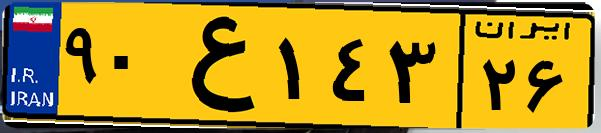0: (110, 28, 158, 98)
1: (270, 28, 330, 110)
2: (475, 38, 525, 113)
3: (385, 28, 445, 110)
4: (330, 28, 385, 110)
6: (525, 38, 570, 115)
9: (57, 26, 110, 100)
ع: (158, 12, 270, 120)
